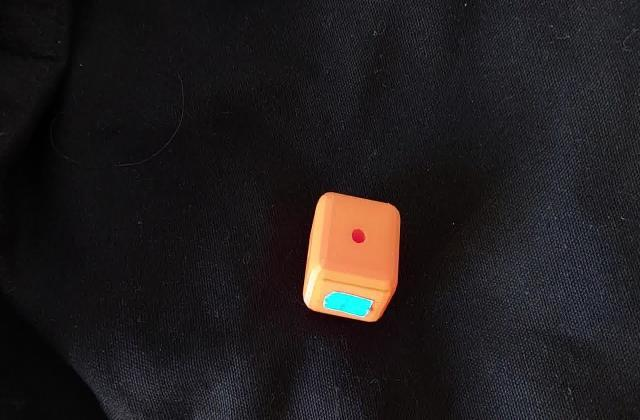blue: (336, 298, 359, 310)
cube: (300, 188, 404, 324)
